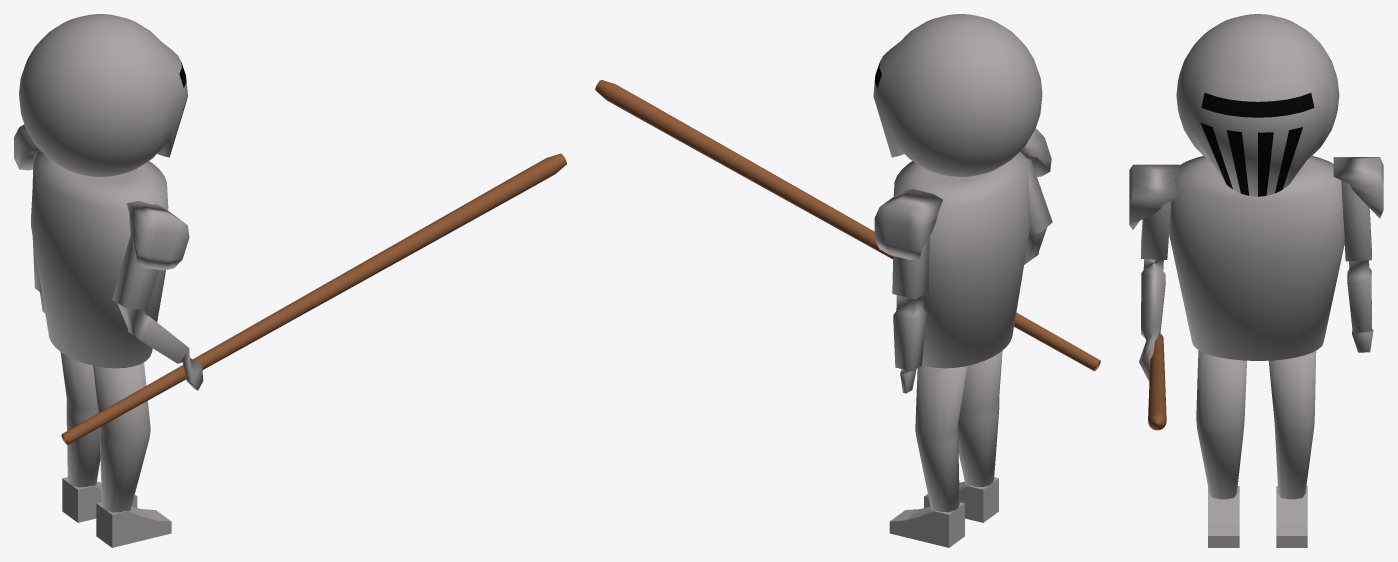
File: knight 1.fbx
3 views of the same model, side by side, from view 1: azimuth 30°, elevation 25°; view 2: azimuth 150°, elevation 25°; view 3: azimuth 270°, elevation 25° (orthographic).
Visible parts, largest first — view 1: Sphere.001, Cylinder, Cylinder.001, Cube.000, Cube.002, Cube, Cube.003, Cube.004, Cube.001; view 2: Sphere.001, Cylinder, Cube.001, Cylinder.001, Cube, Cube.002, Cube.004, Cube.000, Cube.003; view 3: Cylinder, Sphere.001, Cube.002, Cube.000, Cube.001, Cube, Cube.004, Cube.003, Cylinder.001.
Boxes of the visible parts, x1,y1,x2,y2 form: Sphere.001: (19, 14, 187, 177); Cylinder: (31, 151, 168, 368); Cylinder.001: (61, 153, 566, 444); Cube.000: (112, 201, 203, 390); Cube.002: (93, 362, 150, 512); Cube: (60, 352, 100, 487); Cube.003: (96, 502, 171, 547); Cube.004: (62, 477, 137, 522); Cube.001: (14, 124, 44, 312); Sphere.001: (873, 14, 1042, 177); Cylinder: (893, 151, 1030, 368); Cube.001: (874, 189, 942, 393); Cylinder.001: (595, 80, 1100, 371); Cube: (915, 364, 967, 512); Cube.002: (958, 350, 1002, 486); Cube.004: (889, 502, 964, 547); Cube.000: (1020, 128, 1052, 264); Cube.003: (924, 477, 998, 522); Cylinder: (1168, 156, 1344, 360); Sphere.001: (1176, 14, 1339, 196); Cube.002: (1196, 350, 1246, 499); Cube.000: (1129, 164, 1179, 381); Cube.001: (1333, 157, 1383, 352); Cube: (1268, 351, 1316, 499); Cube.004: (1276, 486, 1307, 547); Cube.003: (1208, 486, 1239, 547); Cylinder.001: (1148, 334, 1166, 430).
Size of the model in its own units: 1155 by 1111 by 509.
